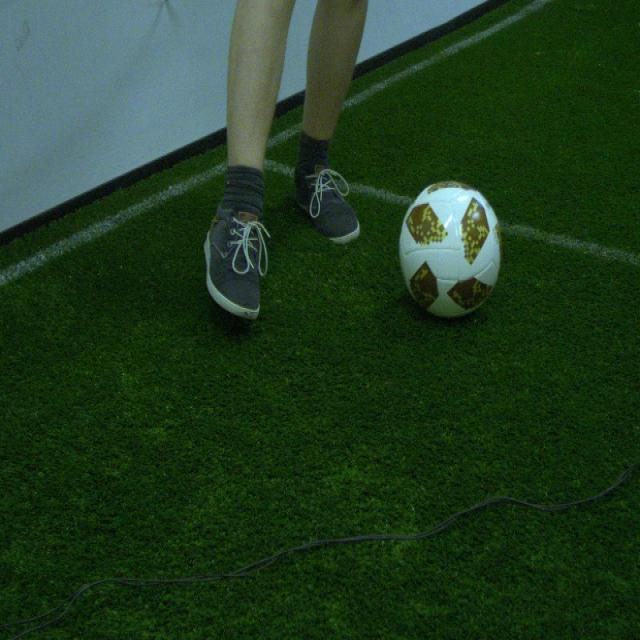ball: (396, 178, 502, 318)
